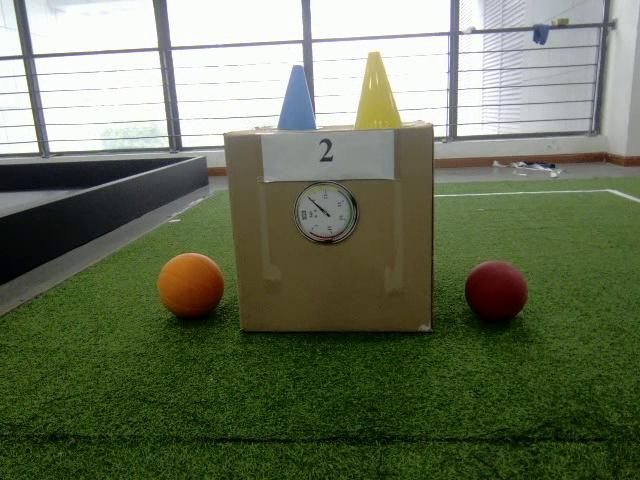2: (320, 137, 338, 162)
Dashboard: (297, 182, 360, 246)
blue_barrel: (279, 65, 316, 129)
orange_ball: (156, 254, 223, 318)
red_ball: (466, 259, 528, 322)
ssi: (299, 211, 308, 222)
yellow_barrel: (351, 50, 398, 127)
